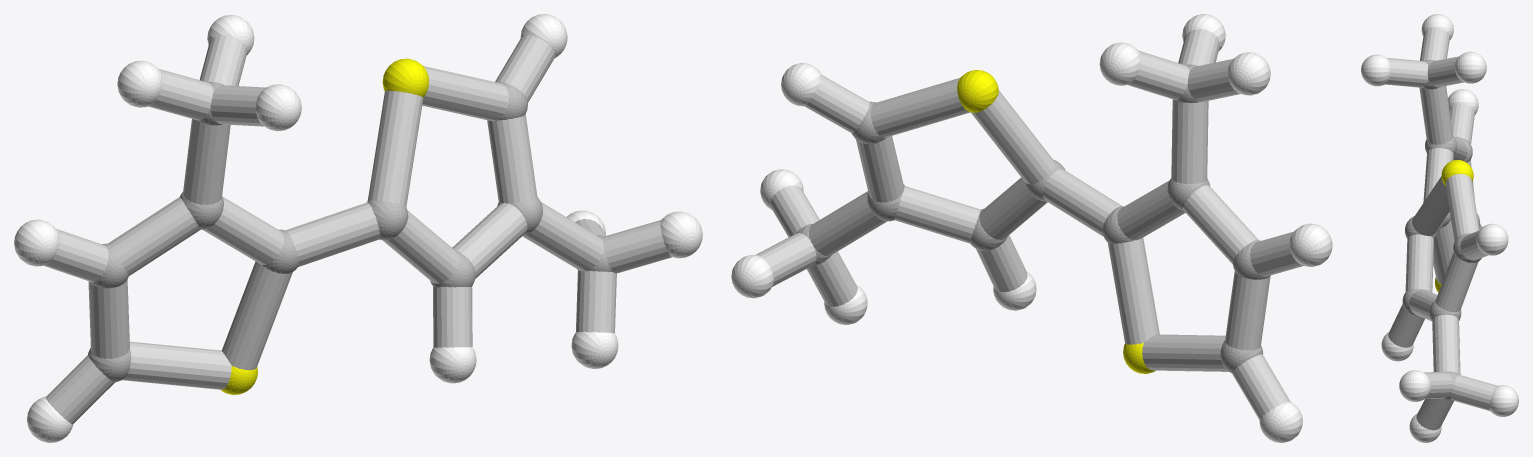
File: Methylthiophene_Phi_30_Theta_340_Methylthiophene.glb
3 renders of one model, left to right at view 1: azimuth 30°, elevation 25°; view 2: azimuth 150°, elevation 25°; view 3: azimuth 270°, elevation 25°, orthographic. The views are drawn at different scales.
Visible parts, largest first — view 1: grp7965, grp3621, grp1, grp7241; view 2: grp7965, grp3621, grp1, grp7241; view 3: grp7965, grp3621, grp1, grp7241.
Boxes of the visible parts, left/top/right/bottom form: grp7965: left=44, top=34, right=672, bottom=424; grp3621: left=14, top=14, right=702, bottom=442; grp1: left=88, top=81, right=612, bottom=382; grp7241: left=221, top=58, right=428, bottom=394; grp7965: left=755, top=29, right=1303, bottom=419; grp3621: left=731, top=14, right=1332, bottom=442; grp1: left=796, top=64, right=1270, bottom=372; grp7241: left=957, top=70, right=1155, bottom=373; grp7965: left=1385, top=28, right=1497, bottom=430; grp3621: left=1361, top=14, right=1518, bottom=442; grp1: left=1402, top=60, right=1481, bottom=400; grp7241: left=1435, top=160, right=1473, bottom=292.
Size of the model in its own units: 9.53 by 5.72 by 2.94.
